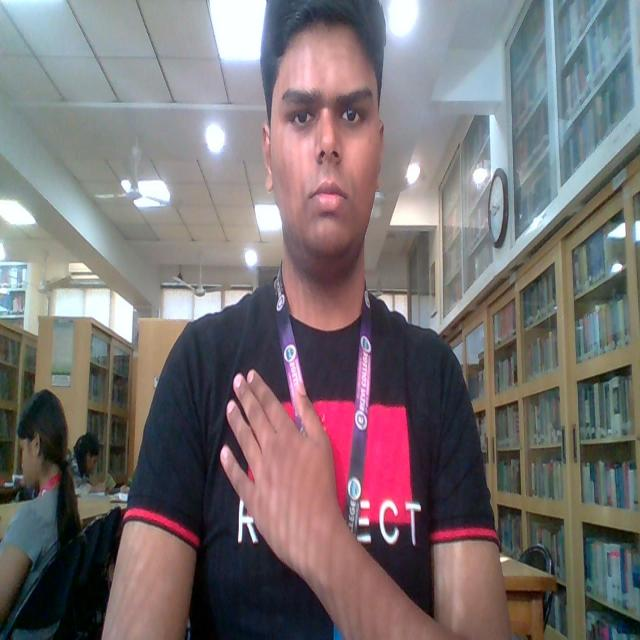Please: (195, 334, 416, 640)
